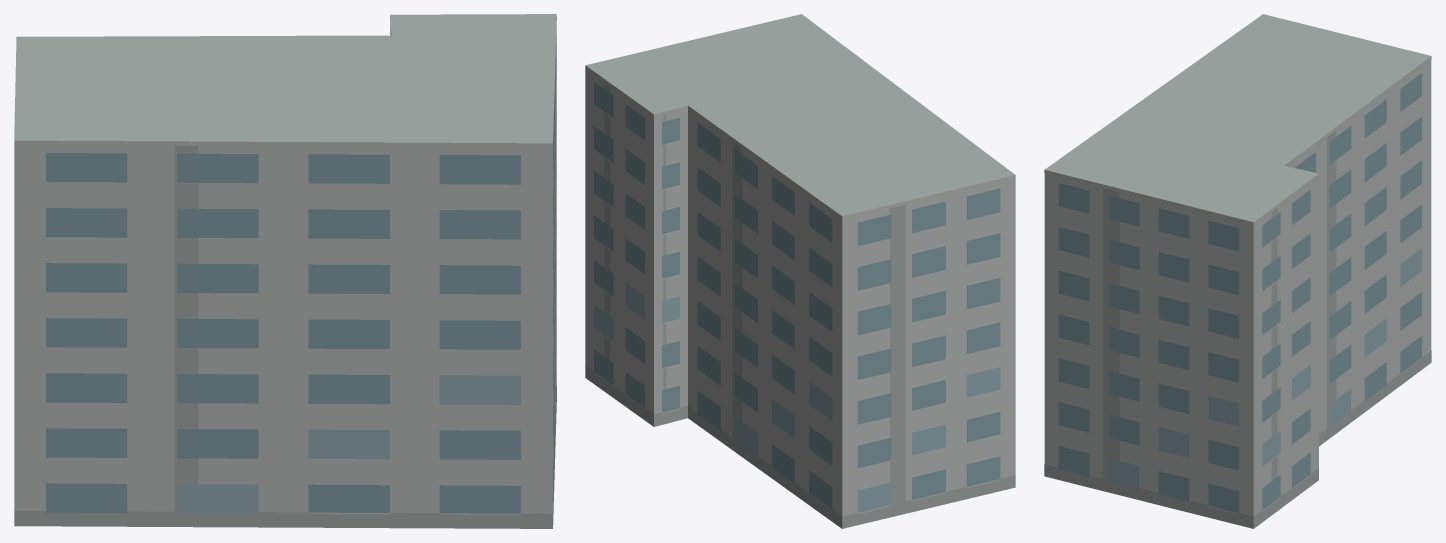
Rendered from survey-upis-32738183.glb.
3 views of the same model, side by side, from view 1: azimuth 30°, elevation 25°; view 2: azimuth 150°, elevation 25°; view 3: azimuth 270°, elevation 25° (orthographic). The views are drawn at different scales.
Parts seen in each view (by area): view 1: survey-upis-32738183.tmp; view 2: survey-upis-32738183.tmp; view 3: survey-upis-32738183.tmp.
Boxes of the visible parts, left/top/right/bottom form: survey-upis-32738183.tmp: left=14, top=14, right=556, bottom=528; survey-upis-32738183.tmp: left=585, top=14, right=1015, bottom=528; survey-upis-32738183.tmp: left=1044, top=14, right=1431, bottom=528.
Size of the model in its own units: 31.32 by 21.5 by 24.6.
